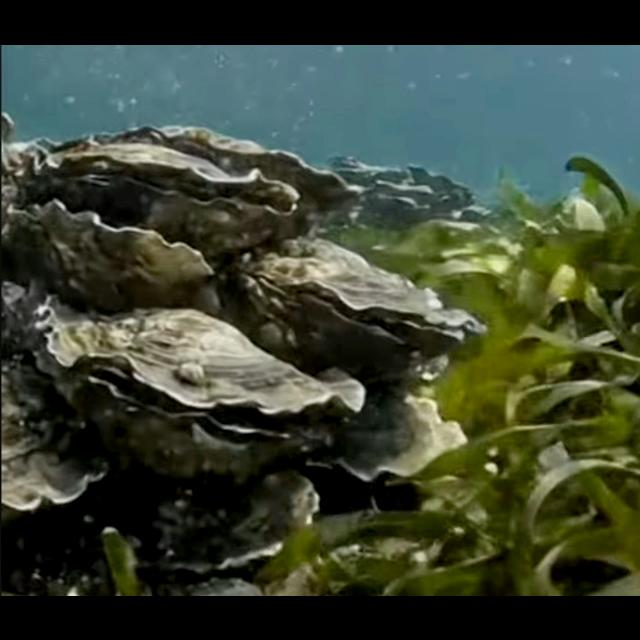Oyster-Closed: (90, 124, 362, 222), (104, 458, 320, 574), (7, 199, 214, 307), (0, 339, 112, 511), (301, 381, 471, 489)
Oyster-Open: (30, 291, 366, 473), (234, 236, 491, 370), (15, 140, 302, 254)
